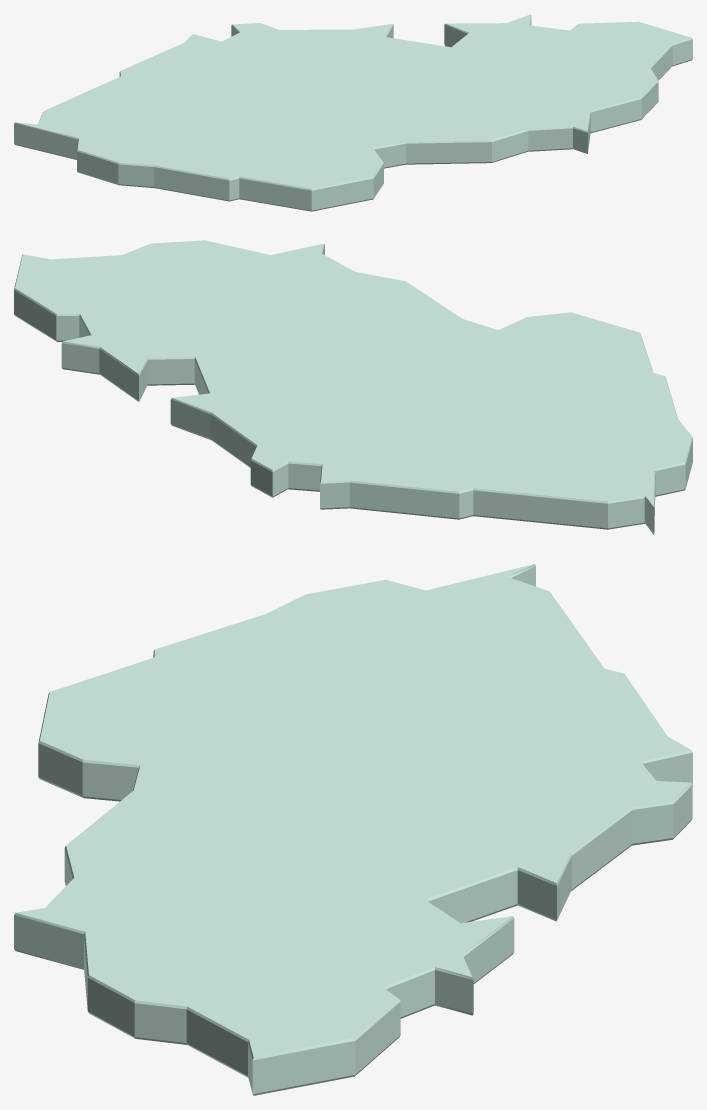
The model's file is CZE.glb.
3 renders of one model, top to bottom at view 1: azimuth 30°, elevation 25°; view 2: azimuth 150°, elevation 25°; view 3: azimuth 270°, elevation 25°, orthographic. The views are drawn at different scales.
Bounding box in the file's own units: 1.88 × 0.068 × 1.09.
